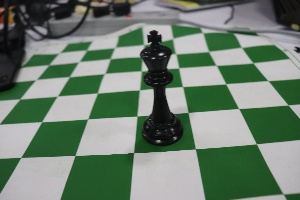black_king: (134, 23, 187, 152)
